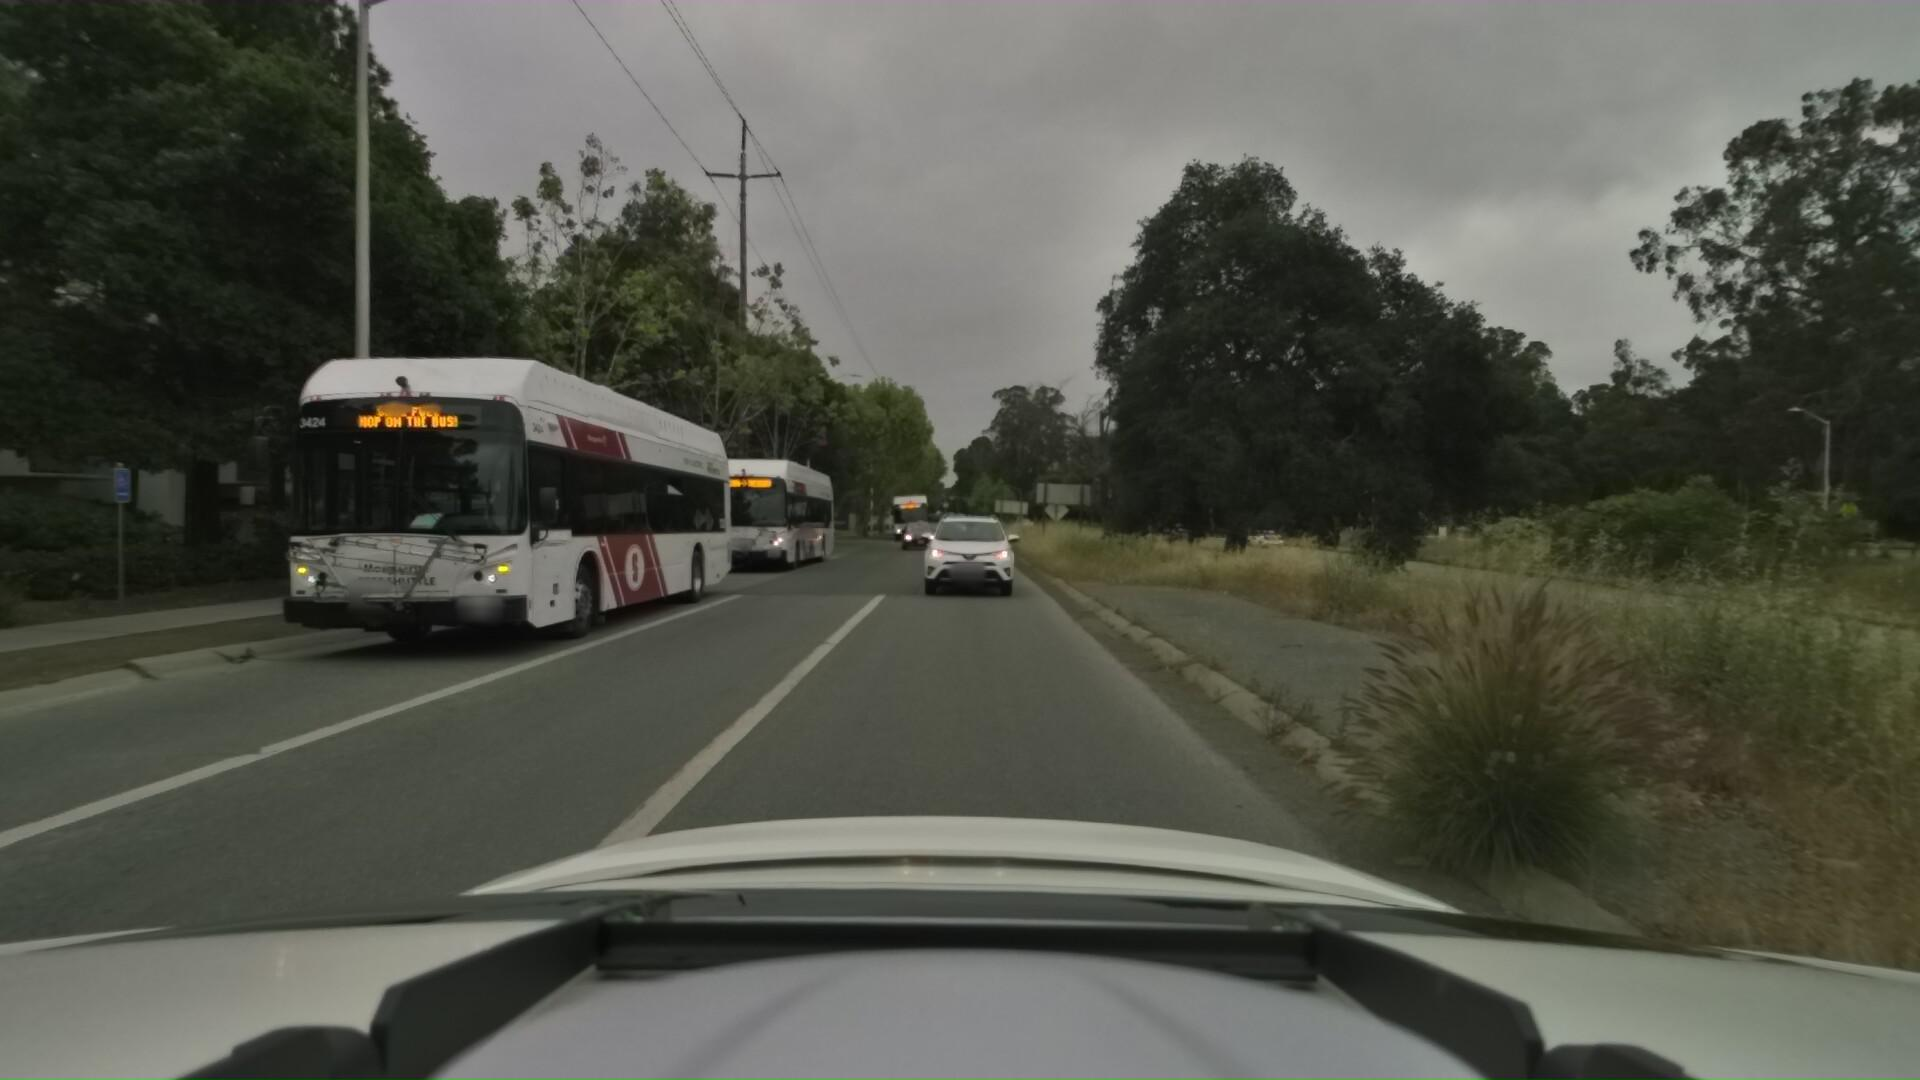bus: (208, 313, 746, 679), (684, 448, 851, 574), (891, 488, 934, 541)
car: (910, 502, 1025, 599), (897, 520, 938, 553)
